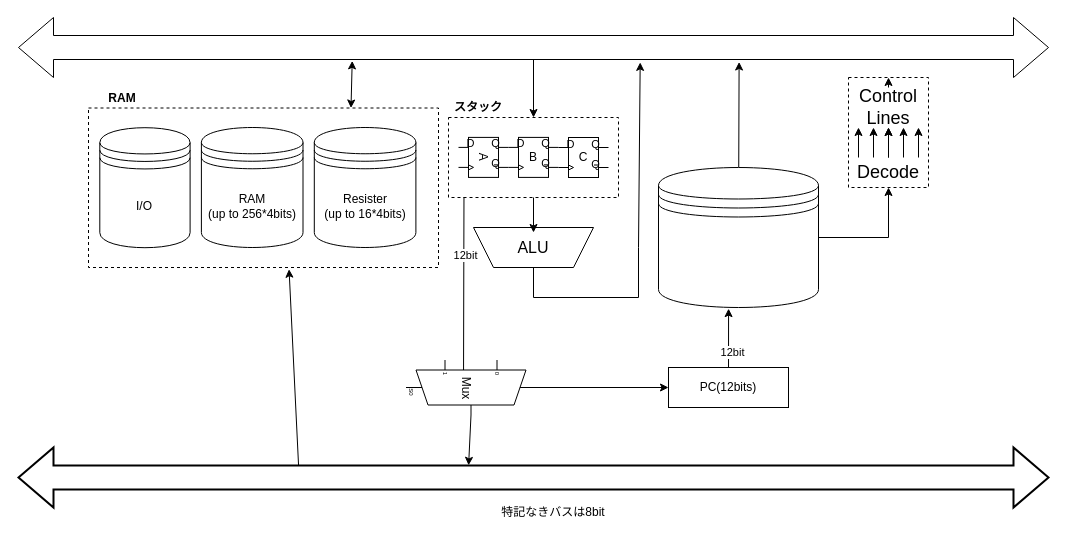
This 1066x545 diagram has some shape labels left out. The box of each missing label's shape, as (x1, y1, x2, y2) in pixels:
ADDRESS BUS (8bits): (17, 446, 1049, 508)
DATA BUS(4bits): (18, 16, 1048, 78)
ROM(up to 4k*8bits): (658, 166, 818, 308)
